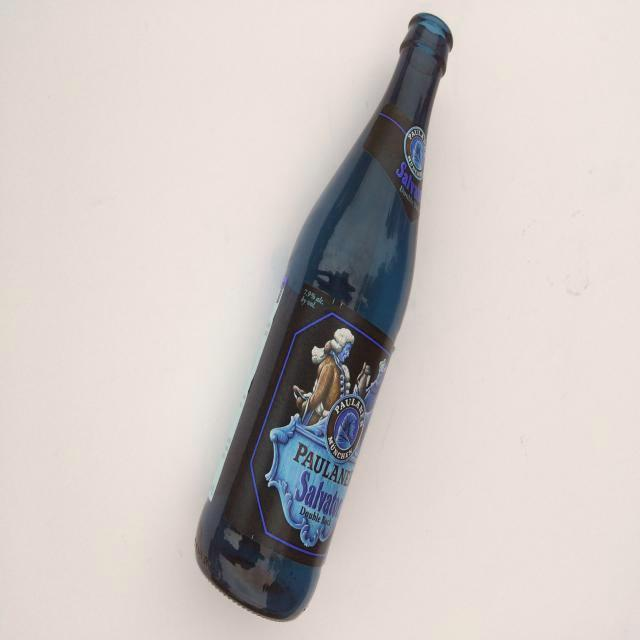glass: (190, 3, 459, 625)
